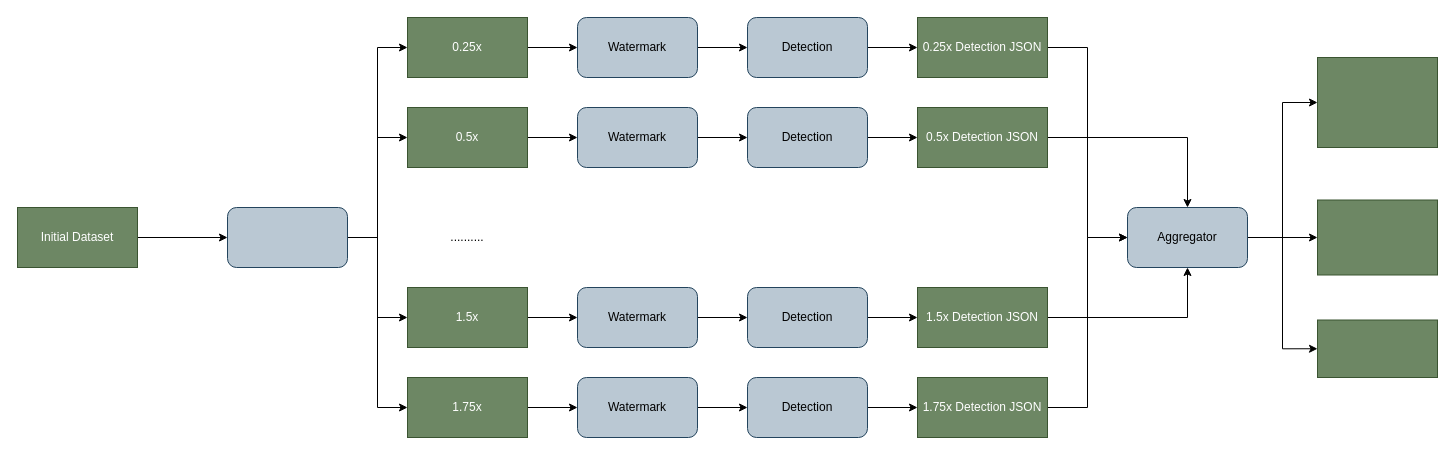
Image size: 1455x455. Some labels were removed from this diagram. Each missing label, with the box of its shape:
Amplitude Modifier: (226, 206, 348, 268)
Amplitude Modifier x Total Score Plot for each file: (1316, 199, 1438, 275)
Plot Report for each file (all amplitude modifier plots side-by-side): (1316, 56, 1438, 148)
Statistics .CSV: (1316, 319, 1438, 378)
